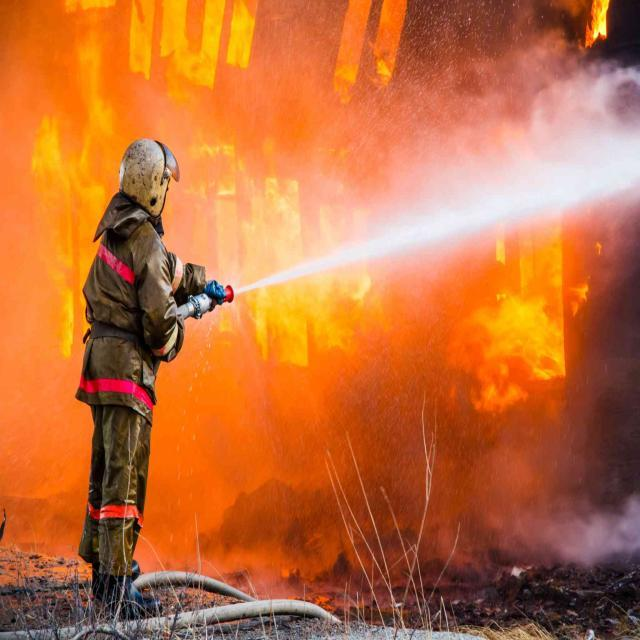Fire: (242, 0, 618, 564), (0, 0, 239, 136), (0, 136, 66, 591)
